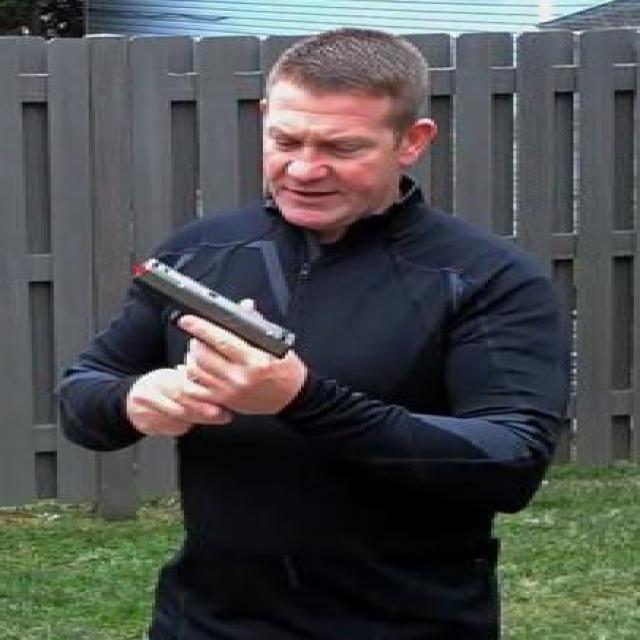Gun: (126, 255, 308, 393)
